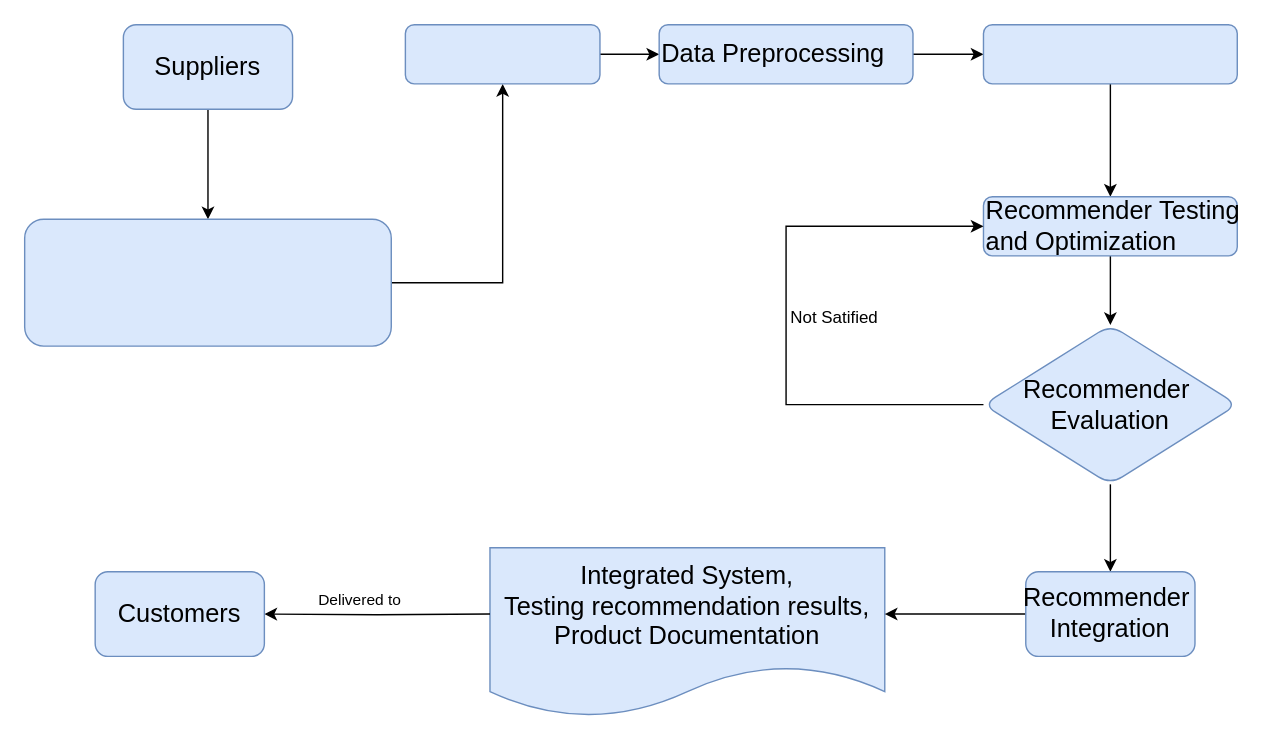
Image size: 1265x742. Some labels were removed from this diagram. The shapes that lost their labels are listed below. From the top down, each one's centre as x and y in pixels, then its label:
At point 502,53: "Data Collection".
At point 1109,53: "Recommender Development".
At point 207,282: "Inputs : Problem Statement Dataset Recommendation Kownledge".
